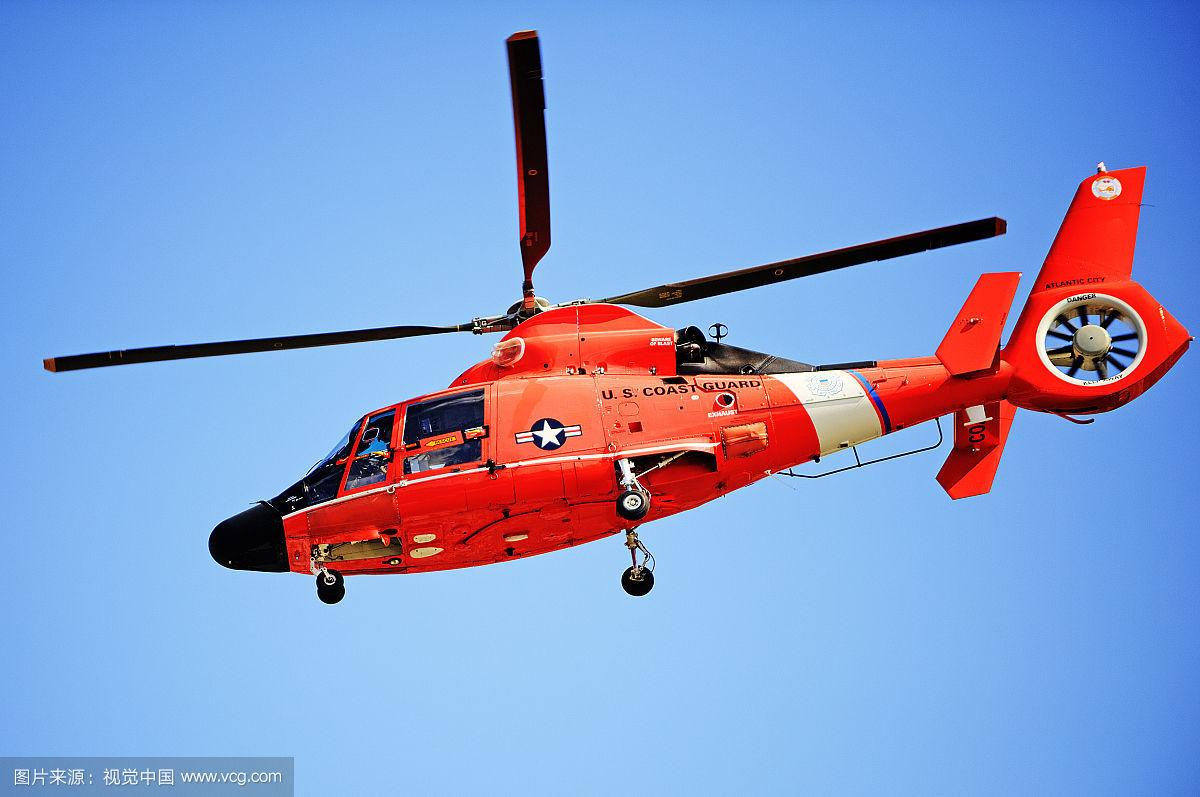airplane: (38, 25, 1192, 605)
